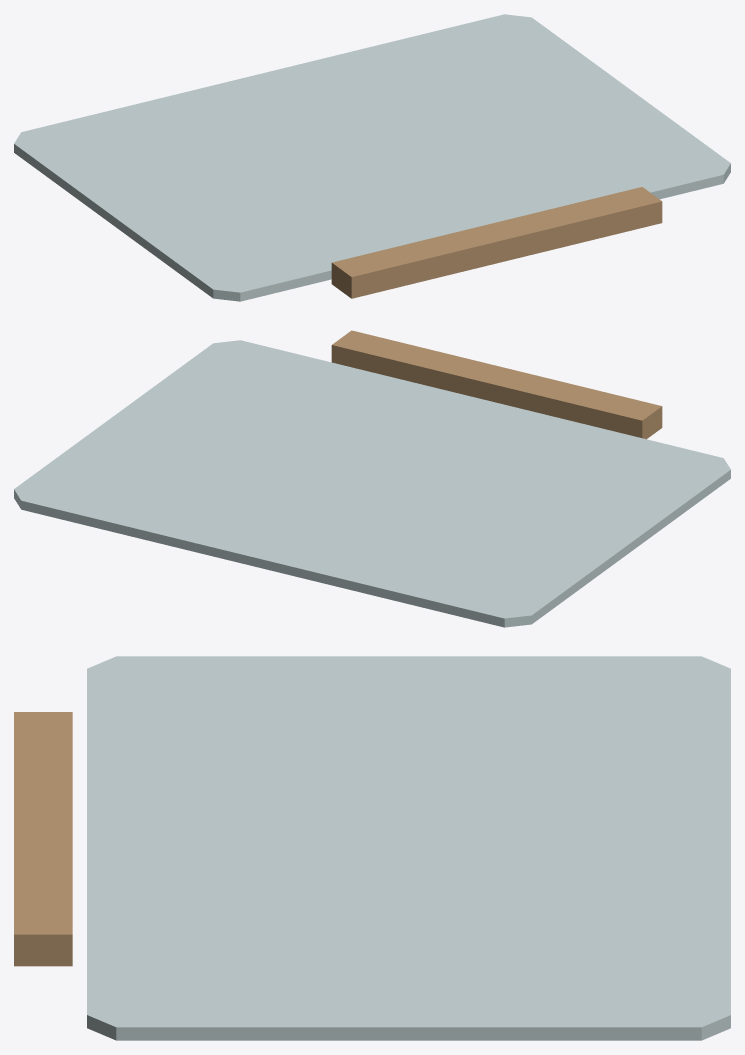
File: prop-looking-glass-blank.fbx
The picture shows the model from 3 angles, top to bottom: view 1: azimuth 30°, elevation 25°; view 2: azimuth 150°, elevation 25°; view 3: azimuth 270°, elevation 25°; orthographic projection. The views are drawn at different scales.
Parts seen in each view (by area): view 1: prop-looking-glass-blank; view 2: prop-looking-glass-blank; view 3: prop-looking-glass-blank.
Boxes of the visible parts, <box> form: prop-looking-glass-blank: <box>14,14,730,301</box>; prop-looking-glass-blank: <box>14,330,730,627</box>; prop-looking-glass-blank: <box>14,656,730,1040</box>.
Size of the model in its own units: 30 by 1.2 by 24.5.
